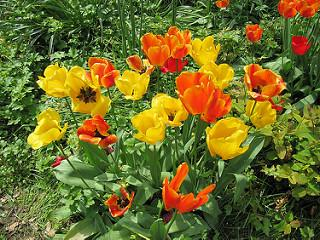tulip: (162, 164, 212, 210), (206, 116, 252, 164), (66, 74, 112, 118), (243, 62, 285, 100), (177, 71, 212, 115), (29, 110, 65, 151), (78, 115, 116, 149), (133, 106, 165, 145), (198, 58, 232, 90), (39, 60, 69, 96), (140, 33, 169, 70), (203, 87, 233, 122), (192, 32, 222, 67), (104, 185, 137, 215), (89, 52, 116, 88), (247, 98, 276, 129), (118, 70, 148, 99), (167, 24, 189, 59), (243, 22, 264, 43), (291, 35, 312, 56), (298, 0, 319, 19), (279, 0, 298, 18), (214, 0, 232, 9), (120, 146, 120, 146)
